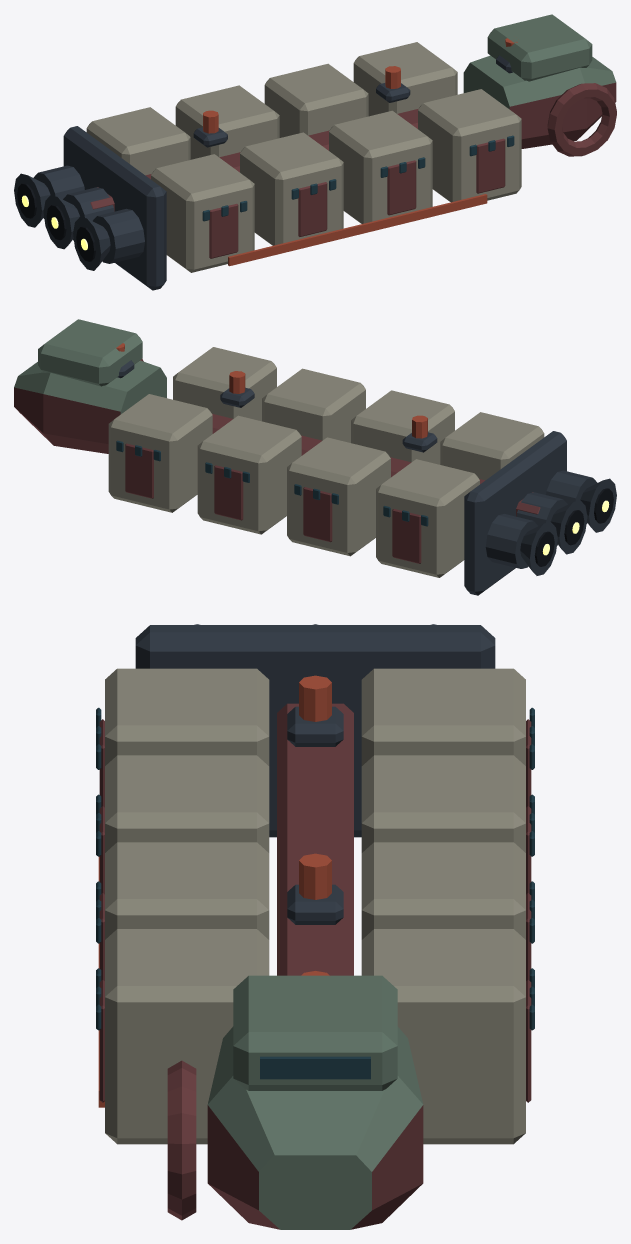
Rendered from county-line.glb.
The picture shows the model from 3 angles, top to bottom: view 1: azimuth 30°, elevation 25°; view 2: azimuth 150°, elevation 25°; view 3: azimuth 270°, elevation 25°; orthographic projection. The views are drawn at different scales.
Parts seen in each view (by area): view 1: detention module.003, detention module, detention module.001, detention module.002, shield wall, escort command hull, detention module.006, guard bridge, detention module.005, detention module.007, detention module.004, prisoner transfer collar (+17 smaller); view 2: escort command hull, detention module.006, detention module.007, detention module.005, detention module.004, shield wall, detention module.002, guard bridge, detention module.003, detention module.001, detention module, engine jacket.002 (+15 smaller); view 3: escort command hull, detention module.007, detention module.003, shield wall, guard bridge, armored central spine, detention module, detention module.001, detention module.004, detention module.005, detention module.002, detention module.006 (+6 smaller).
Boxes of the visible parts, bbox=[...] form: detention module.003: bbox=[418, 89, 521, 202]; detention module: bbox=[151, 154, 254, 272]; detention module.001: bbox=[240, 132, 343, 245]; detention module.002: bbox=[329, 110, 432, 223]; shield wall: bbox=[63, 126, 166, 290]; escort command hull: bbox=[463, 55, 616, 148]; detention module.006: bbox=[264, 63, 368, 137]; guard bridge: bbox=[487, 14, 592, 81]; detention module.005: bbox=[175, 85, 279, 159]; detention module.007: bbox=[353, 42, 457, 116]; detention module.004: bbox=[86, 107, 190, 175]; prisoner transfer collar: bbox=[547, 83, 616, 156]; escort command hull: bbox=[14, 360, 166, 453]; detention module.006: bbox=[197, 415, 301, 534]; detention module.007: bbox=[108, 394, 212, 512]; detention module.005: bbox=[287, 437, 390, 556]; detention module.004: bbox=[376, 459, 479, 577]; shield wall: bbox=[464, 431, 566, 595]; detention module.002: bbox=[262, 368, 365, 442]; guard bridge: bbox=[38, 319, 142, 386]; detention module.003: bbox=[173, 347, 276, 421]; detention module.001: bbox=[351, 390, 454, 464]; detention module: bbox=[440, 412, 544, 480]; engine jacket.002: bbox=[485, 514, 537, 568]; escort command hull: bbox=[207, 1026, 423, 1229]; detention module.007: bbox=[361, 929, 525, 1144]; detention module.003: bbox=[105, 929, 269, 1144]; shield wall: bbox=[135, 625, 495, 837]; guard bridge: bbox=[233, 975, 397, 1090]; armored central spine: bbox=[277, 703, 353, 975]; detention module: bbox=[105, 668, 269, 765]; detention module.001: bbox=[105, 755, 269, 852]; detention module.004: bbox=[361, 668, 525, 765]; detention module.005: bbox=[361, 755, 525, 852]; detention module.002: bbox=[105, 842, 269, 939]; detention module.006: bbox=[361, 842, 525, 939].
Size of the model in its own units: 12.32 by 2.63 by 4.27.
